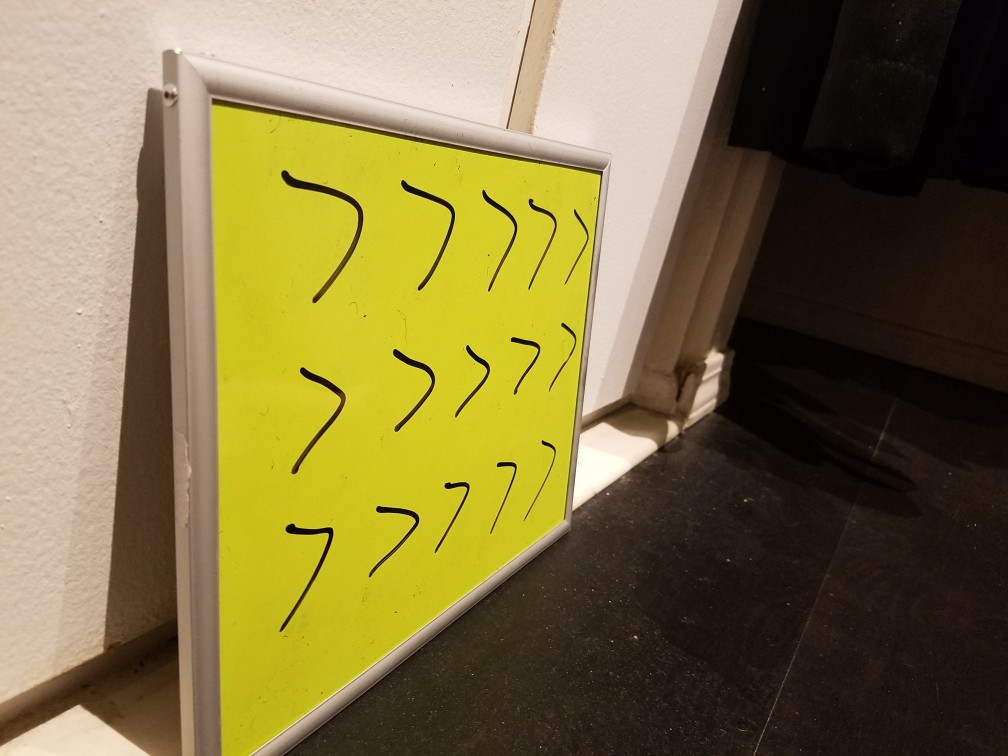>: (282, 140, 374, 310), (279, 330, 356, 485), (395, 152, 465, 293), (279, 495, 338, 632), (360, 474, 422, 589), (381, 328, 439, 438), (451, 320, 499, 430), (480, 165, 518, 293), (433, 456, 475, 562), (522, 429, 564, 526), (524, 174, 558, 287), (487, 440, 522, 545), (507, 315, 542, 401), (564, 180, 588, 287), (551, 310, 577, 404)
